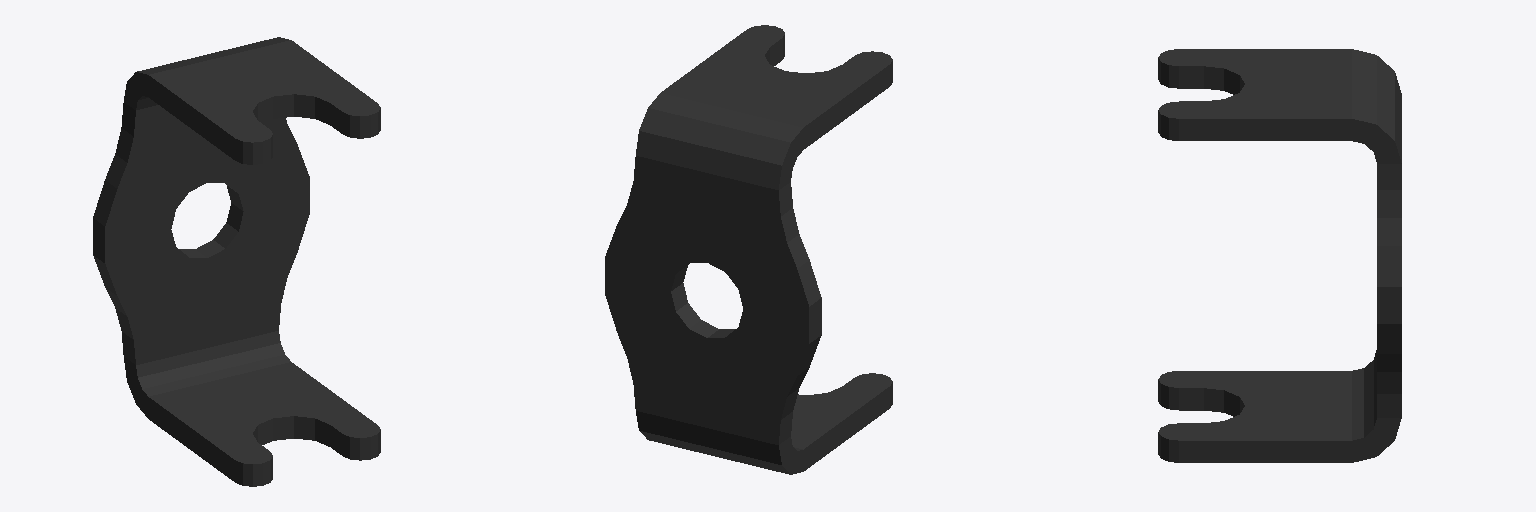
Rendered from Hand_Football_Player_05__1__1_mesh.obj.
3 views of the same model, side by side, from view 1: azimuth 30°, elevation 25°; view 2: azimuth 150°, elevation 25°; view 3: azimuth 270°, elevation 25° (orthographic).
Size of the model in its own units: 0.0286 by 0.046 by 0.0295.